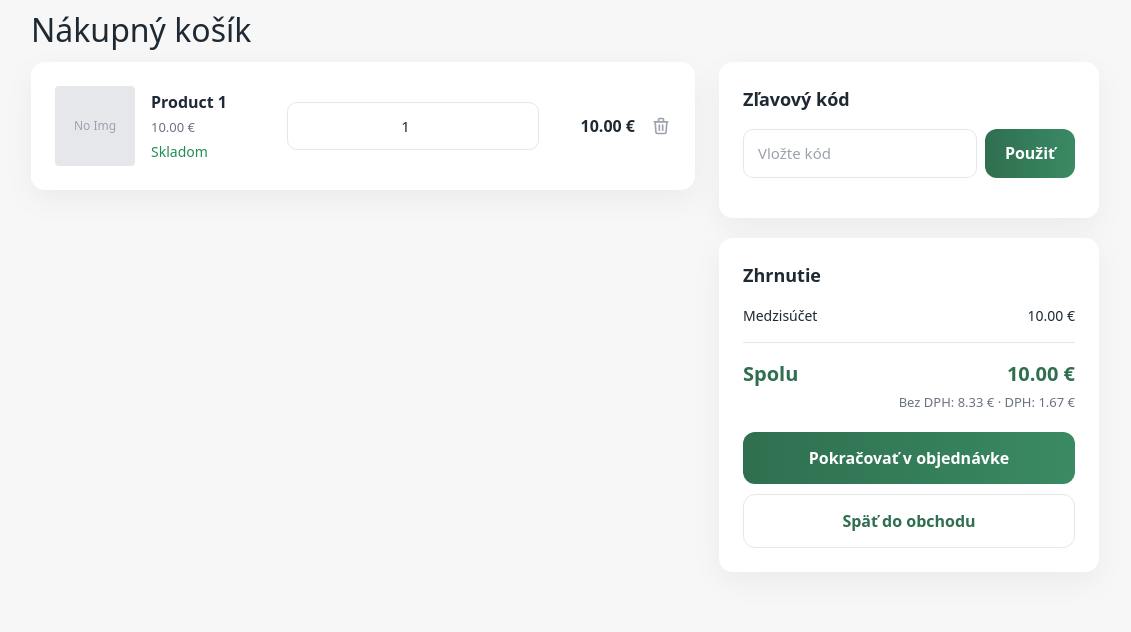
Cart Component › displays generic error message for other errors
Type "ERROR" into the field with placeholder "Vložte kód" at (860, 153), box x1=743 y1=129 x2=977 y2=178
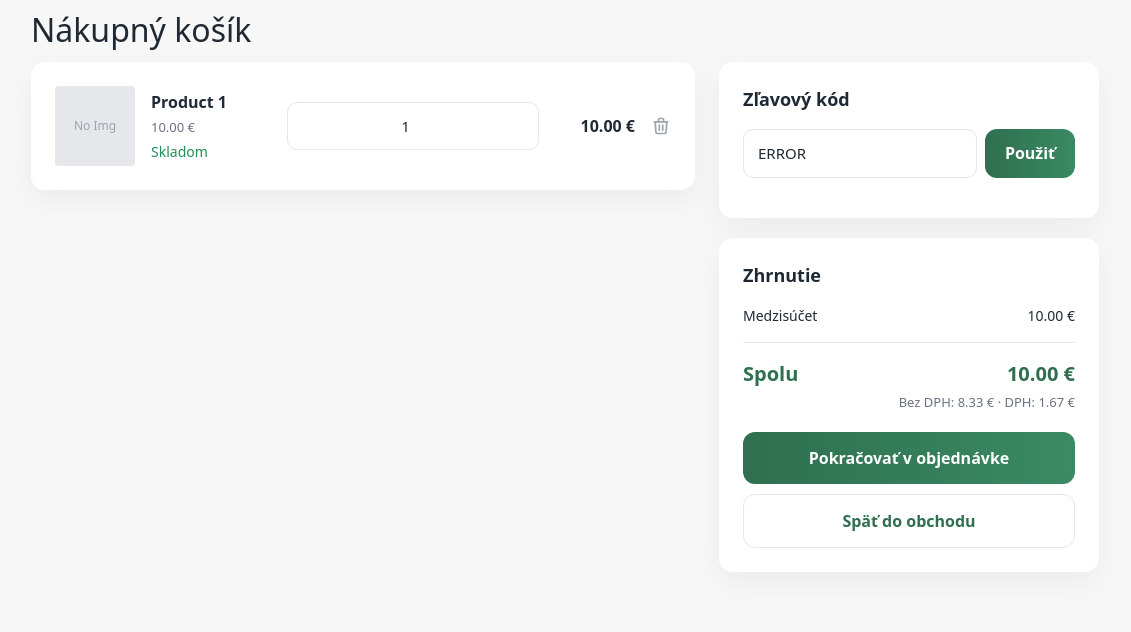
Click the button "Použiť" at (1030, 153), box x1=985 y1=129 x2=1075 y2=178
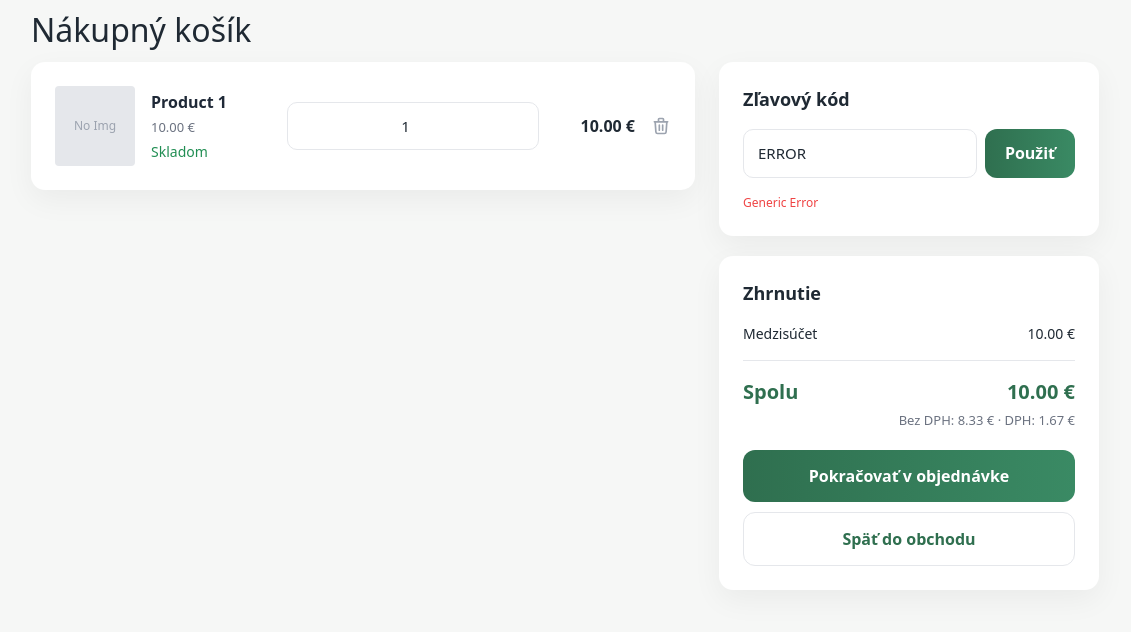
Check: the text "Generic Error" is shown, box x1=743 y1=194 x2=818 y2=210
